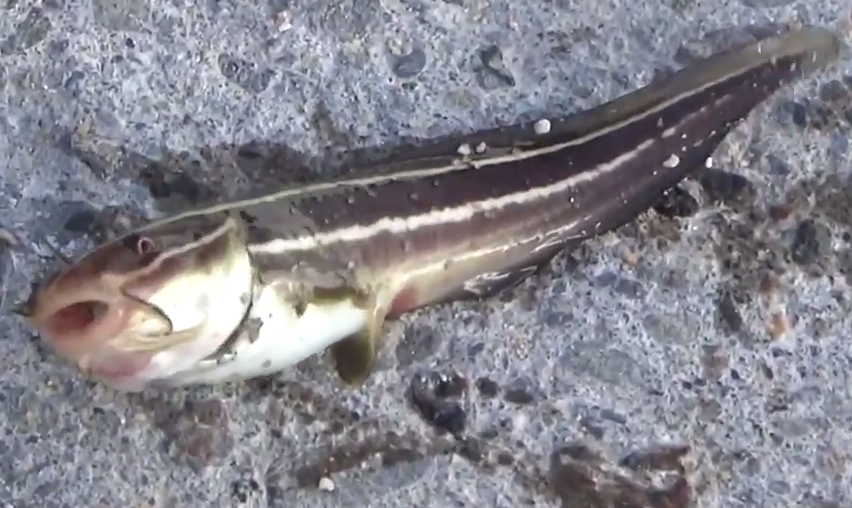gonzui: (23, 11, 835, 405)
